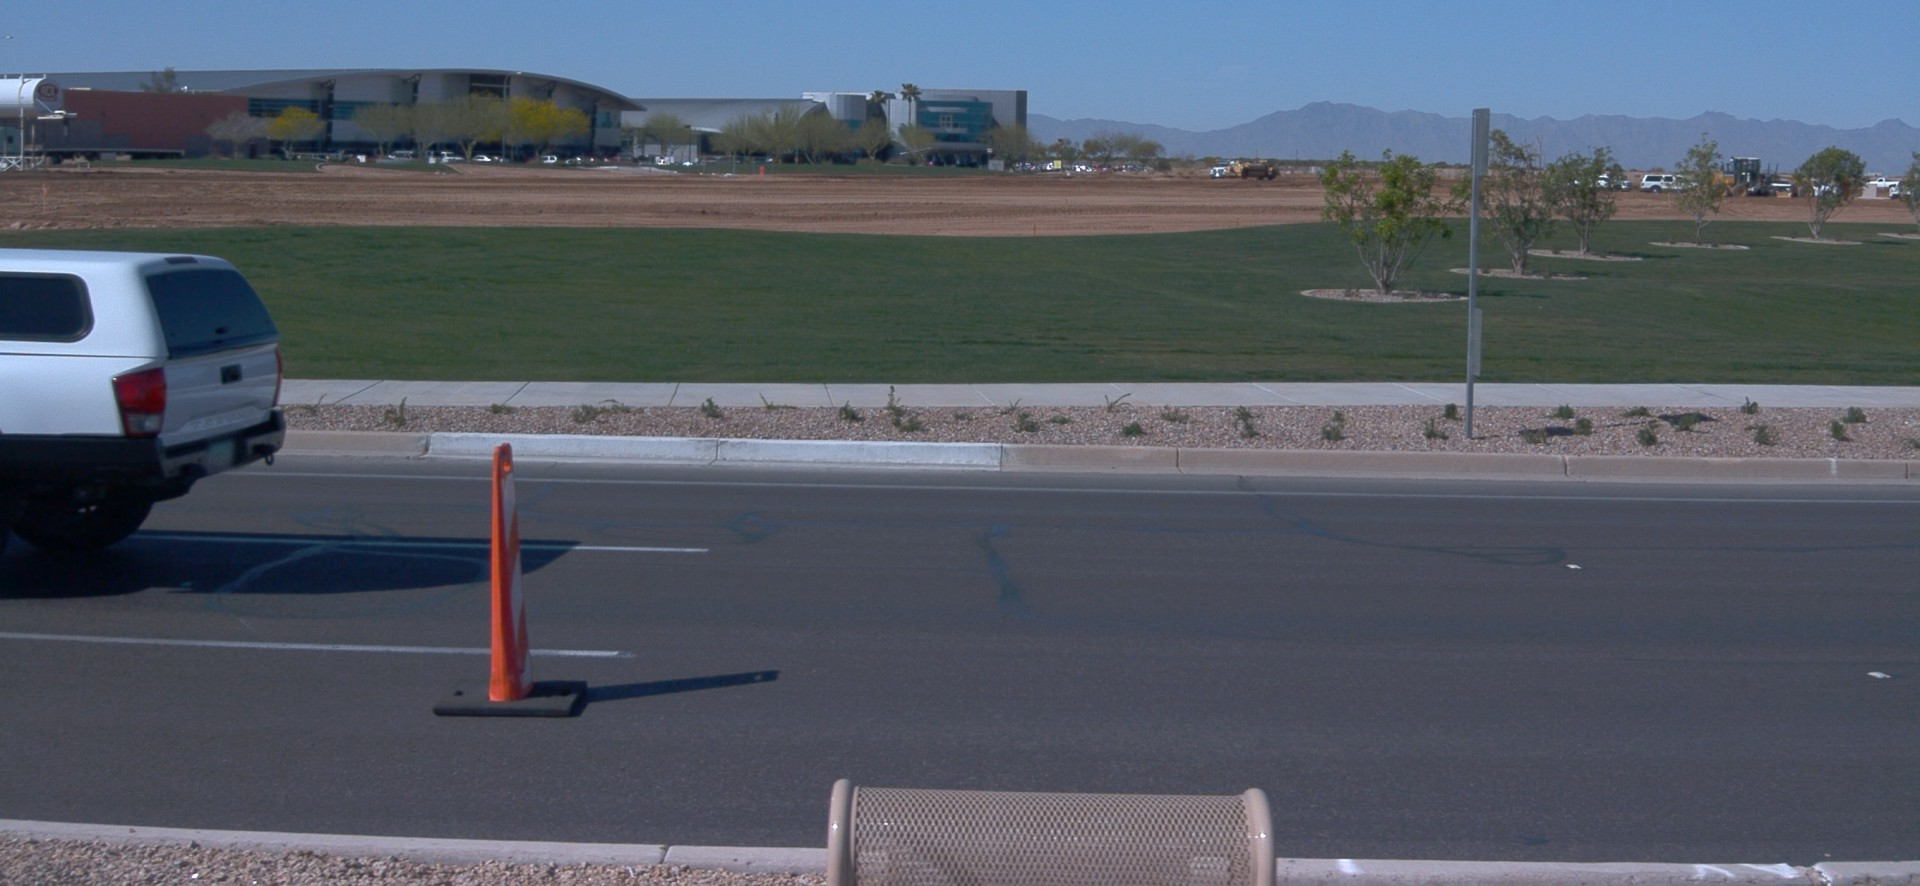TYPE_VEHICLE: (0, 248, 294, 550), (0, 122, 192, 167), (1713, 155, 1795, 201), (1639, 171, 1699, 195), (1572, 173, 1634, 193), (1227, 160, 1281, 181), (1806, 179, 1839, 200), (1860, 179, 1900, 192), (1888, 179, 1912, 200), (1210, 159, 1234, 179), (386, 150, 414, 161), (394, 148, 417, 159), (440, 149, 464, 159), (475, 151, 495, 157), (542, 156, 560, 161), (659, 162, 670, 165)
